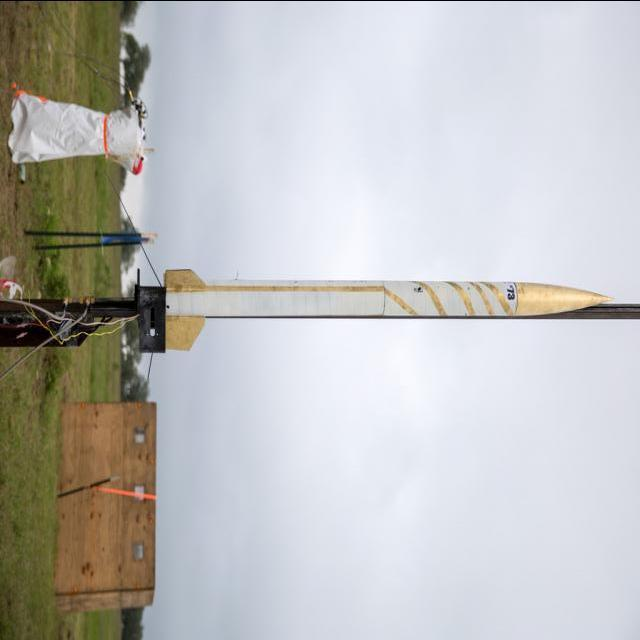missile: (107, 266, 610, 351)
